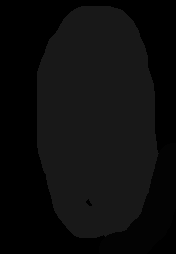fp: (24, 1, 163, 240)
